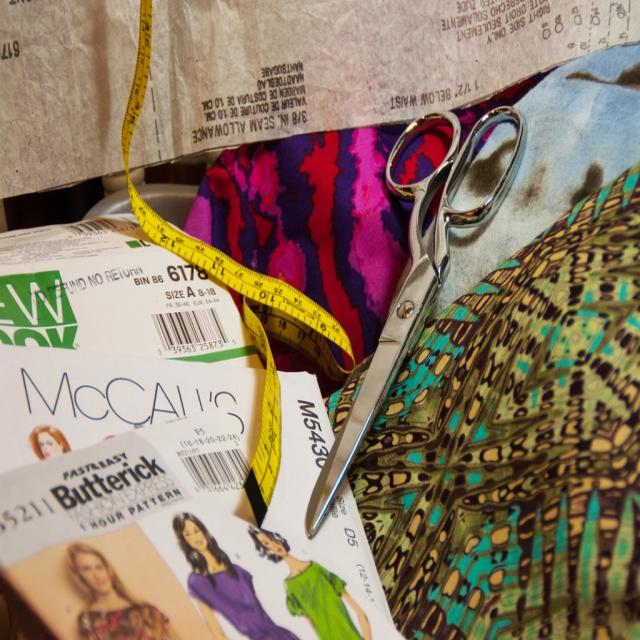scissors: (303, 103, 524, 539)
